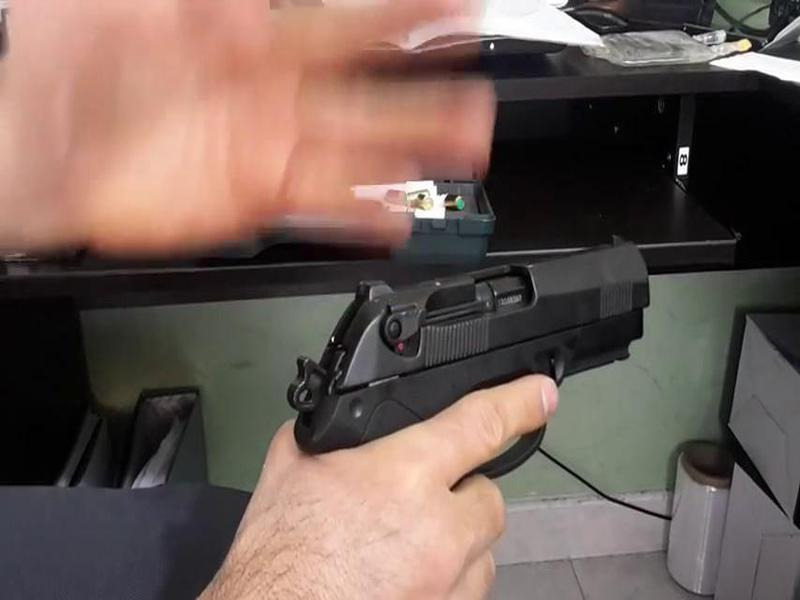Pistola: (277, 231, 661, 487)
